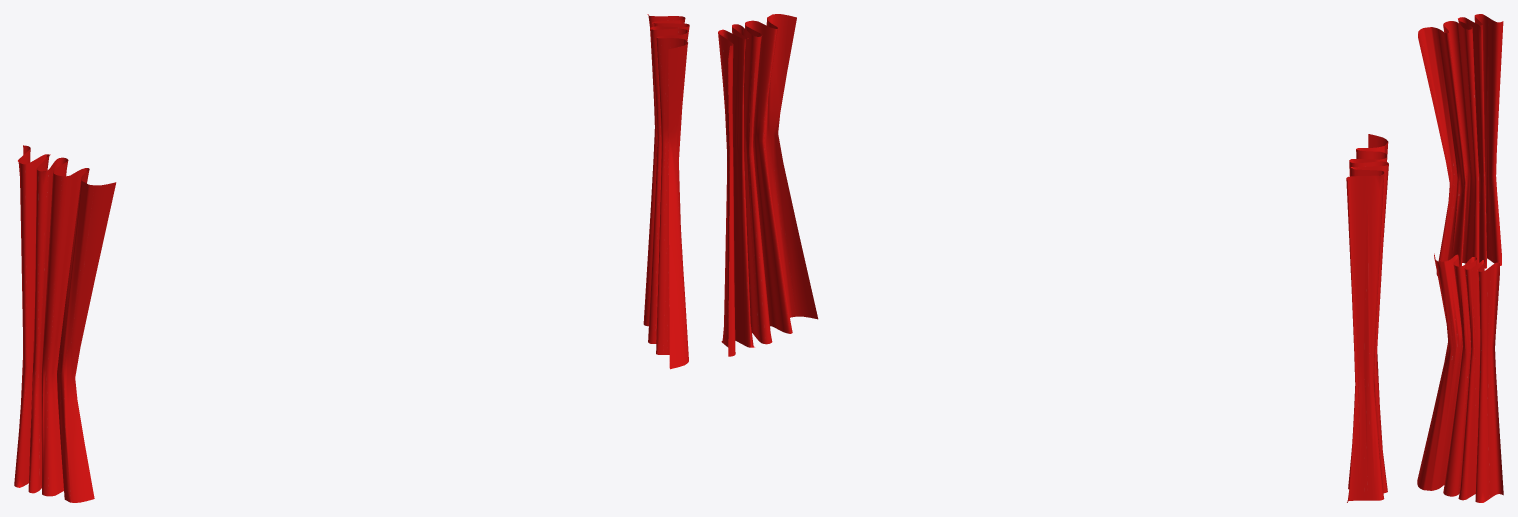
The model's file is curtains.obj.
3 renders of one model, left to right at view 1: azimuth 30°, elevation 25°; view 2: azimuth 150°, elevation 25°; view 3: azimuth 270°, elevation 25°, orthographic. The views are drawn at different scales.
Visible parts, largest first — view 1: rideau:Plane_004_pCylinder1SG; view 2: rideau:Plane_004_pCylinder1SG; view 3: rideau:Plane_004_pCylinder1SG.
Boxes of the visible parts, x1=… form: rideau:Plane_004_pCylinder1SG: x1=14, y1=14, x2=689, y2=502; rideau:Plane_004_pCylinder1SG: x1=718, y1=14, x2=1388, y2=502; rideau:Plane_004_pCylinder1SG: x1=1417, y1=14, x2=1503, y2=502.
Bounding box in the file's own units: 763 × 359 × 114.
1 material, 1 textured.
